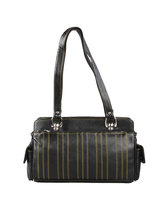bag: (19, 25, 154, 186)
